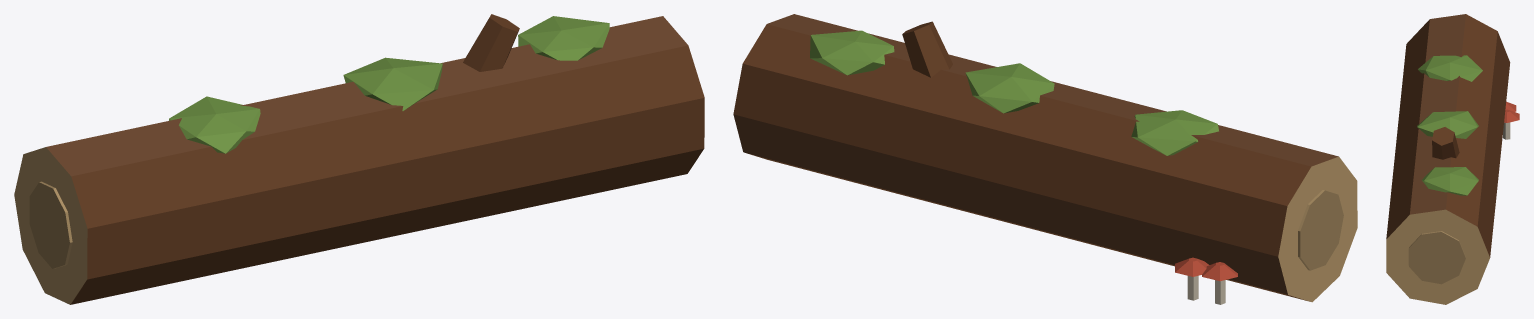
File: FallenLog.glb
The picture shows the model from 3 angles, left to right: view 1: azimuth 30°, elevation 25°; view 2: azimuth 150°, elevation 25°; view 3: azimuth 270°, elevation 25°; orthographic projection. The views are drawn at different scales.
Parts seen in each view (by area): view 1: Body; view 2: Body; view 3: Body.
Part boxes in pixels (x1=…): Body: x1=14, y1=14, x2=704, y2=304; Body: x1=733, y1=14, x2=1357, y2=304; Body: x1=1386, y1=14, x2=1519, y2=304.
Size of the model in its own units: 6.9 by 2.02 by 1.99.
